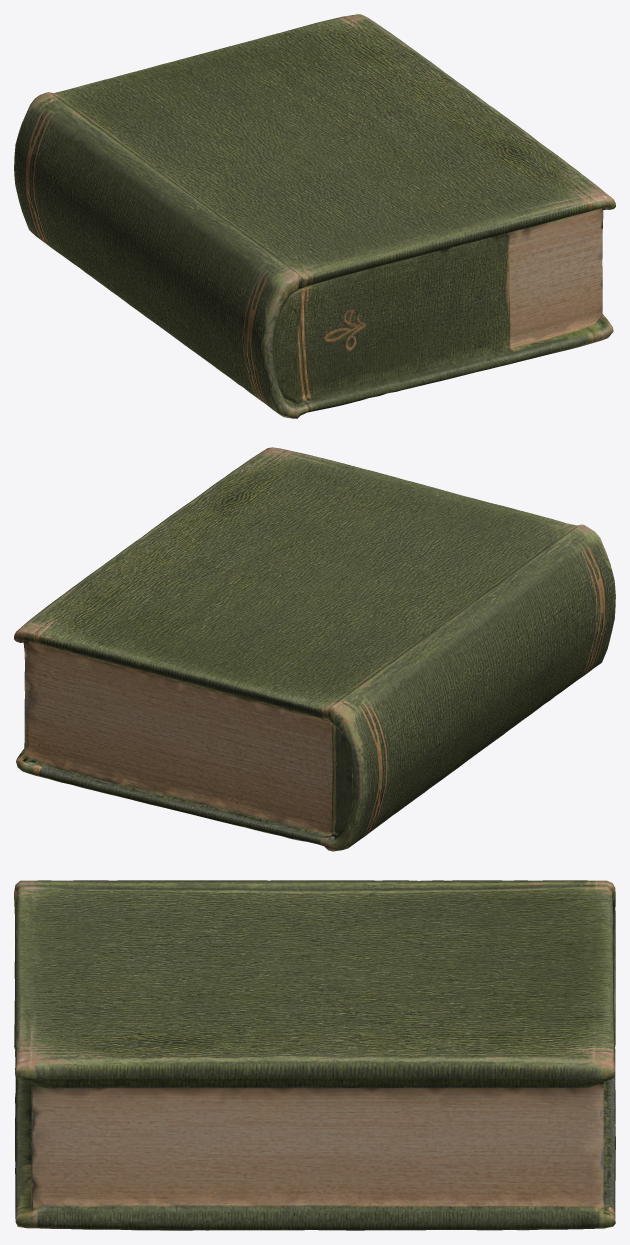
Rendered from Prop_Book3.fbx.
The picture shows the model from 3 angles, top to bottom: view 1: azimuth 30°, elevation 25°; view 2: azimuth 150°, elevation 25°; view 3: azimuth 270°, elevation 25°; orthographic projection. The views are drawn at different scales.
Visible parts, largest first — view 1: texture_mapping; view 2: texture_mapping; view 3: texture_mapping.
Part boxes in pixels (<box>): texture_mapping: <box>14,14,615,418</box>; texture_mapping: <box>14,447,615,851</box>; texture_mapping: <box>14,880,615,1230</box>.
Bounding box in the file's own units: 0.7999 × 1 × 0.3234.
Materials: 1 (1 with a texture image).
